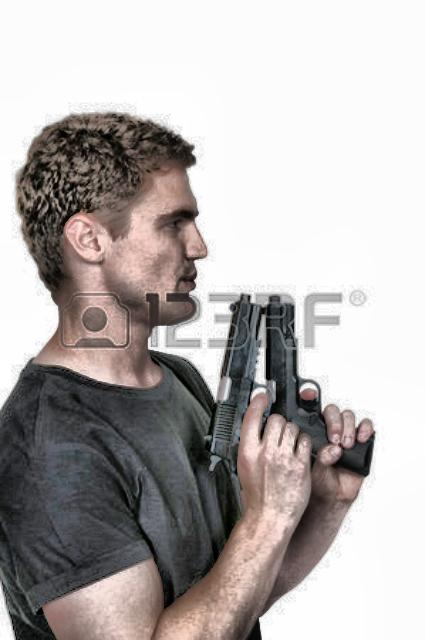pistol: (265, 293, 377, 485), (200, 289, 278, 481)
